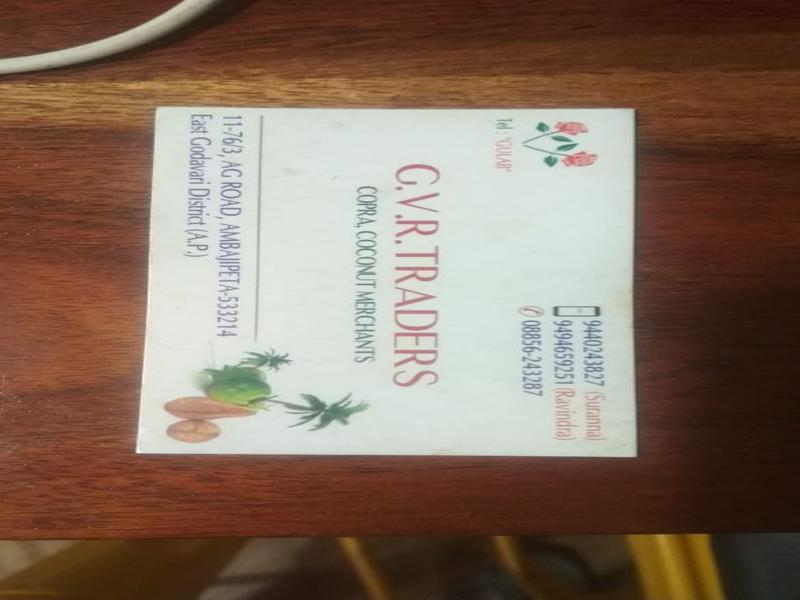card: (136, 107, 636, 456)
